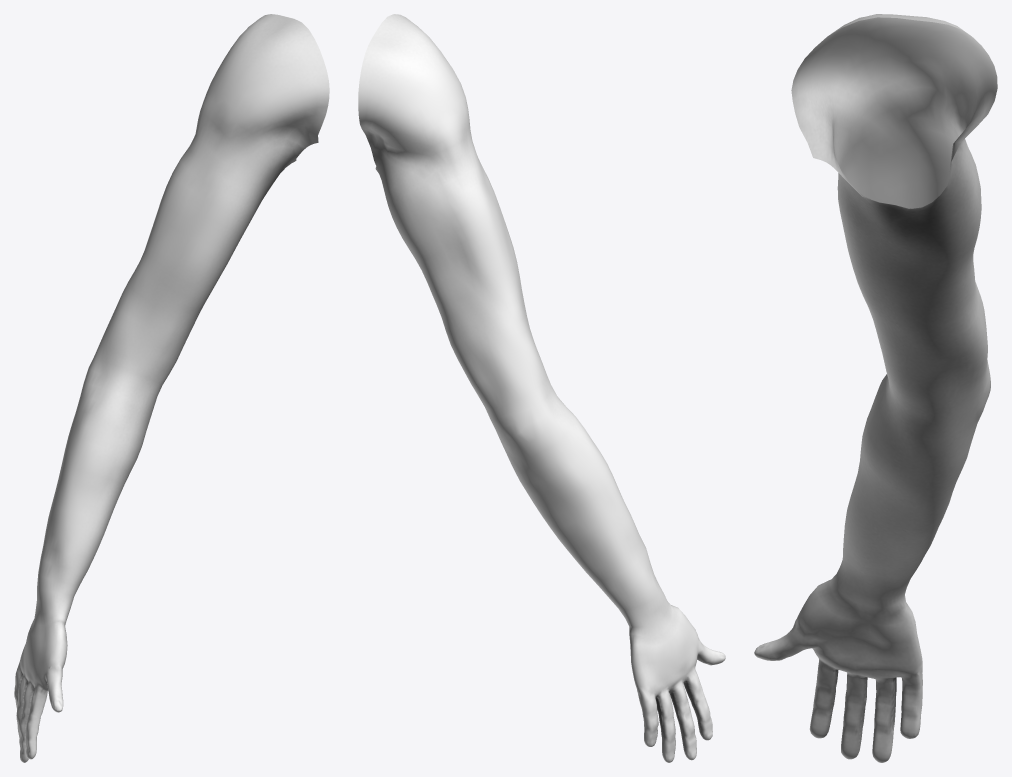
The model's file is brazoDer.obj.
3 renders of one model, left to right at view 1: azimuth 30°, elevation 25°; view 2: azimuth 150°, elevation 25°; view 3: azimuth 270°, elevation 25°, orthographic. The views are drawn at different scales.
Visible parts, largest first — view 1: brazoDer; view 2: brazoDer; view 3: brazoDer.
Boxes of the visible parts, x1=… form: brazoDer: x1=14, y1=14, x2=329, y2=762; brazoDer: x1=358, y1=14, x2=725, y2=762; brazoDer: x1=754, y1=14, x2=997, y2=762.
Size of the model in its own units: 0.0363 by 0.0778 by 0.0182.
1 material, 1 textured.
